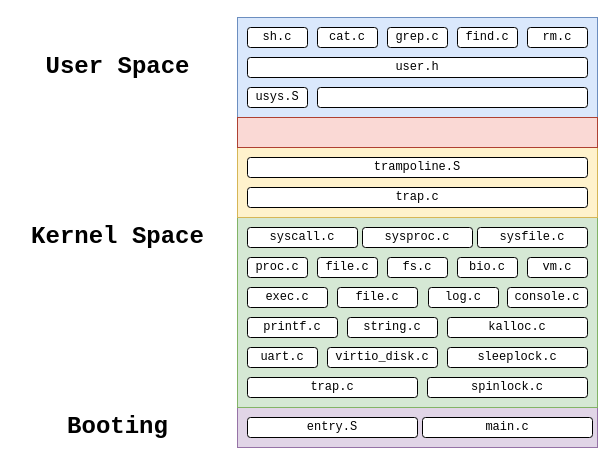
The diagram is 615 pixels wide and 465 high, and some of its shapes have lost their labels. Here are the shapes that lost their labels. From the top down, the box of each, then its label:
(316, 86, 588, 108): ulib.c
(236, 116, 598, 148): ecall/sret
